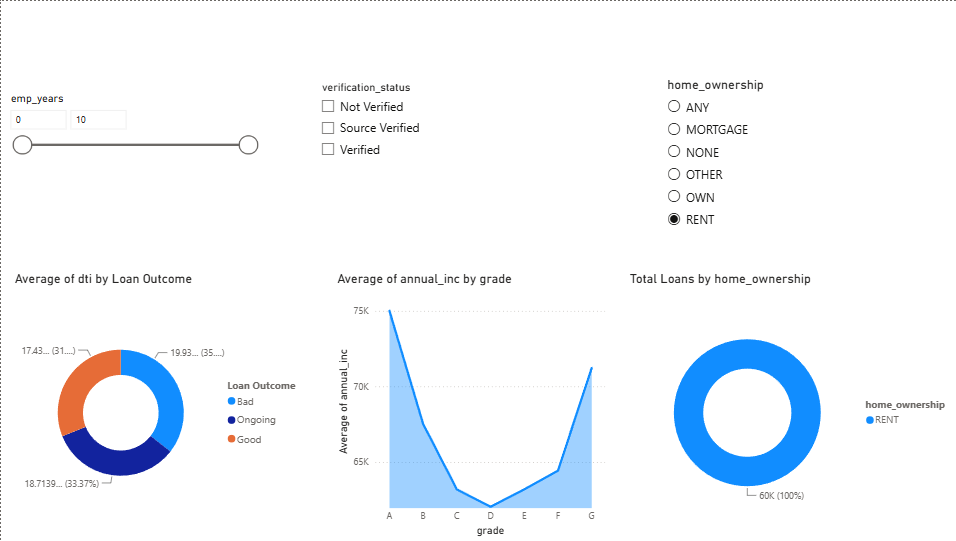

The dashboard page shown, as its layout file describes it:
{"tool":"powerbi","page":{"name":"Borrower Profile","canvas":[1280,720],"ordinal":2},"visuals":[{"type":"stackedAreaChart","fields":{"Category":["loans_clean.grade"],"Y":["Avg(loans_clean.annual_inc)"]},"box":[443.6,360.8,367.4,359.2],"z":0},{"type":"donutChart","fields":{"Category":["loans_clean.Loan Outcome"],"Y":["Avg(loans_clean.dti)"]},"box":[13.2,360.8,402.2,359.2],"z":1000},{"type":"donutChart","fields":{"Category":["loans_clean.home_ownership"],"Y":["loans_clean.Total Loans"]},"box":[832.5,360.8,446.9,359.2],"z":2000},{"type":"slicer","fields":{"Values":["loans_clean.emp_years"]},"box":[0,115.9,350.9,155.6],"z":3000},{"type":"listSlicer","fields":{"Values":["loans_clean.home_ownership"]},"box":[883.8,101,395.6,208.5],"z":4000},{"type":"slicer","fields":{"Values":["loans_clean.verification_status"]},"box":[415.4,101,395.6,208.5],"z":5000}]}

Visuals, with their boxes in screenshot pixels (x1, y1, x2, y2), scaled from the page's 1280x720 canvas onto the 956x541 screenshot:
stackedAreaChart - loans_clean.grade x Avg(loans_clean.annual_inc): {"x1": 331, "y1": 271, "x2": 606, "y2": 540}
donutChart - loans_clean.Loan Outcome x Avg(loans_clean.dti): {"x1": 10, "y1": 271, "x2": 310, "y2": 540}
donutChart - loans_clean.home_ownership x loans_clean.Total Loans: {"x1": 622, "y1": 271, "x2": 955, "y2": 540}
slicer - loans_clean.emp_years: {"x1": 0, "y1": 87, "x2": 262, "y2": 204}
listSlicer - loans_clean.home_ownership: {"x1": 660, "y1": 76, "x2": 955, "y2": 233}
slicer - loans_clean.verification_status: {"x1": 310, "y1": 76, "x2": 606, "y2": 233}
